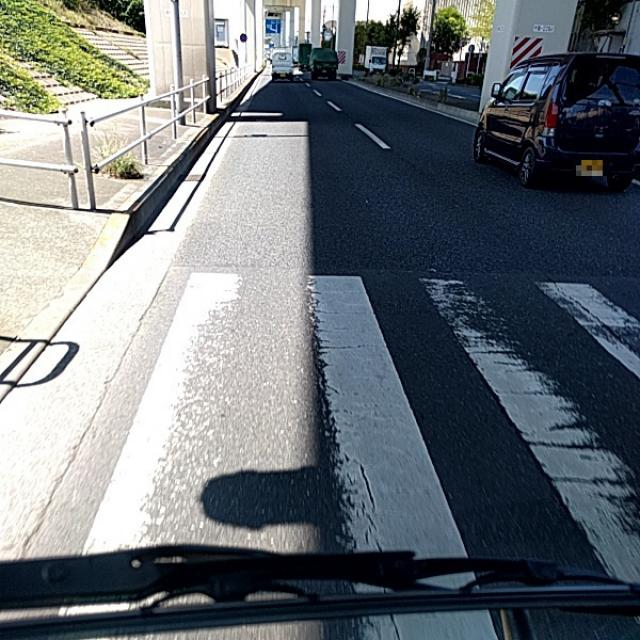pothole: (312, 404, 387, 531)
